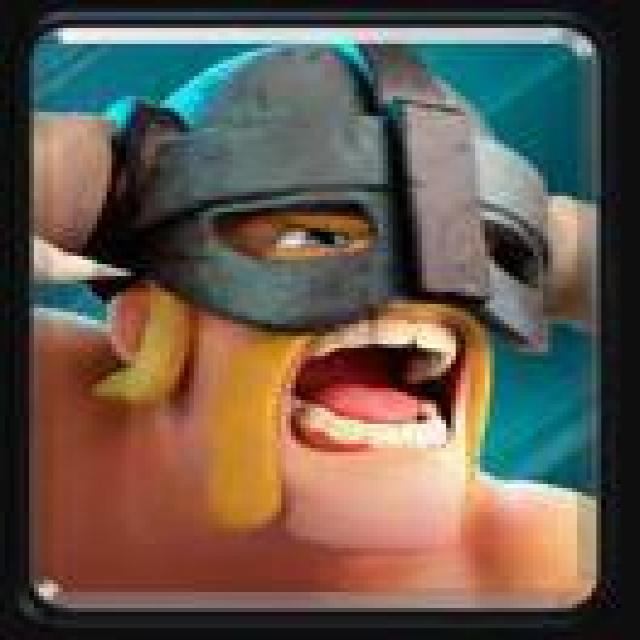Elite_Barbarians: (15, 14, 610, 625)
